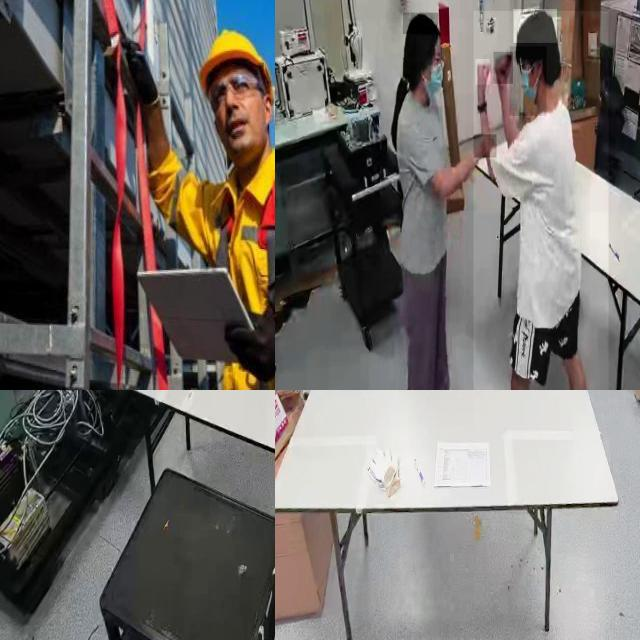Harness: (218, 182, 275, 319)
face_mask: (509, 46, 546, 116), (416, 36, 449, 106)
hand_noglove: (494, 52, 514, 84), (473, 134, 497, 158), (476, 59, 490, 85)
head_nohelmet: (514, 9, 558, 44), (403, 13, 439, 35)
person: (473, 11, 608, 390), (379, 19, 466, 390)
shoes: (433, 369, 460, 390)
